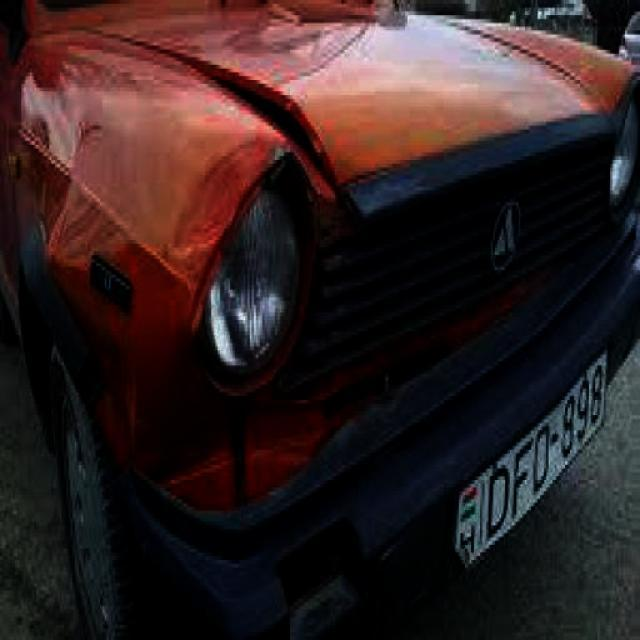car damage: (94, 346, 340, 515), (138, 31, 358, 217)
